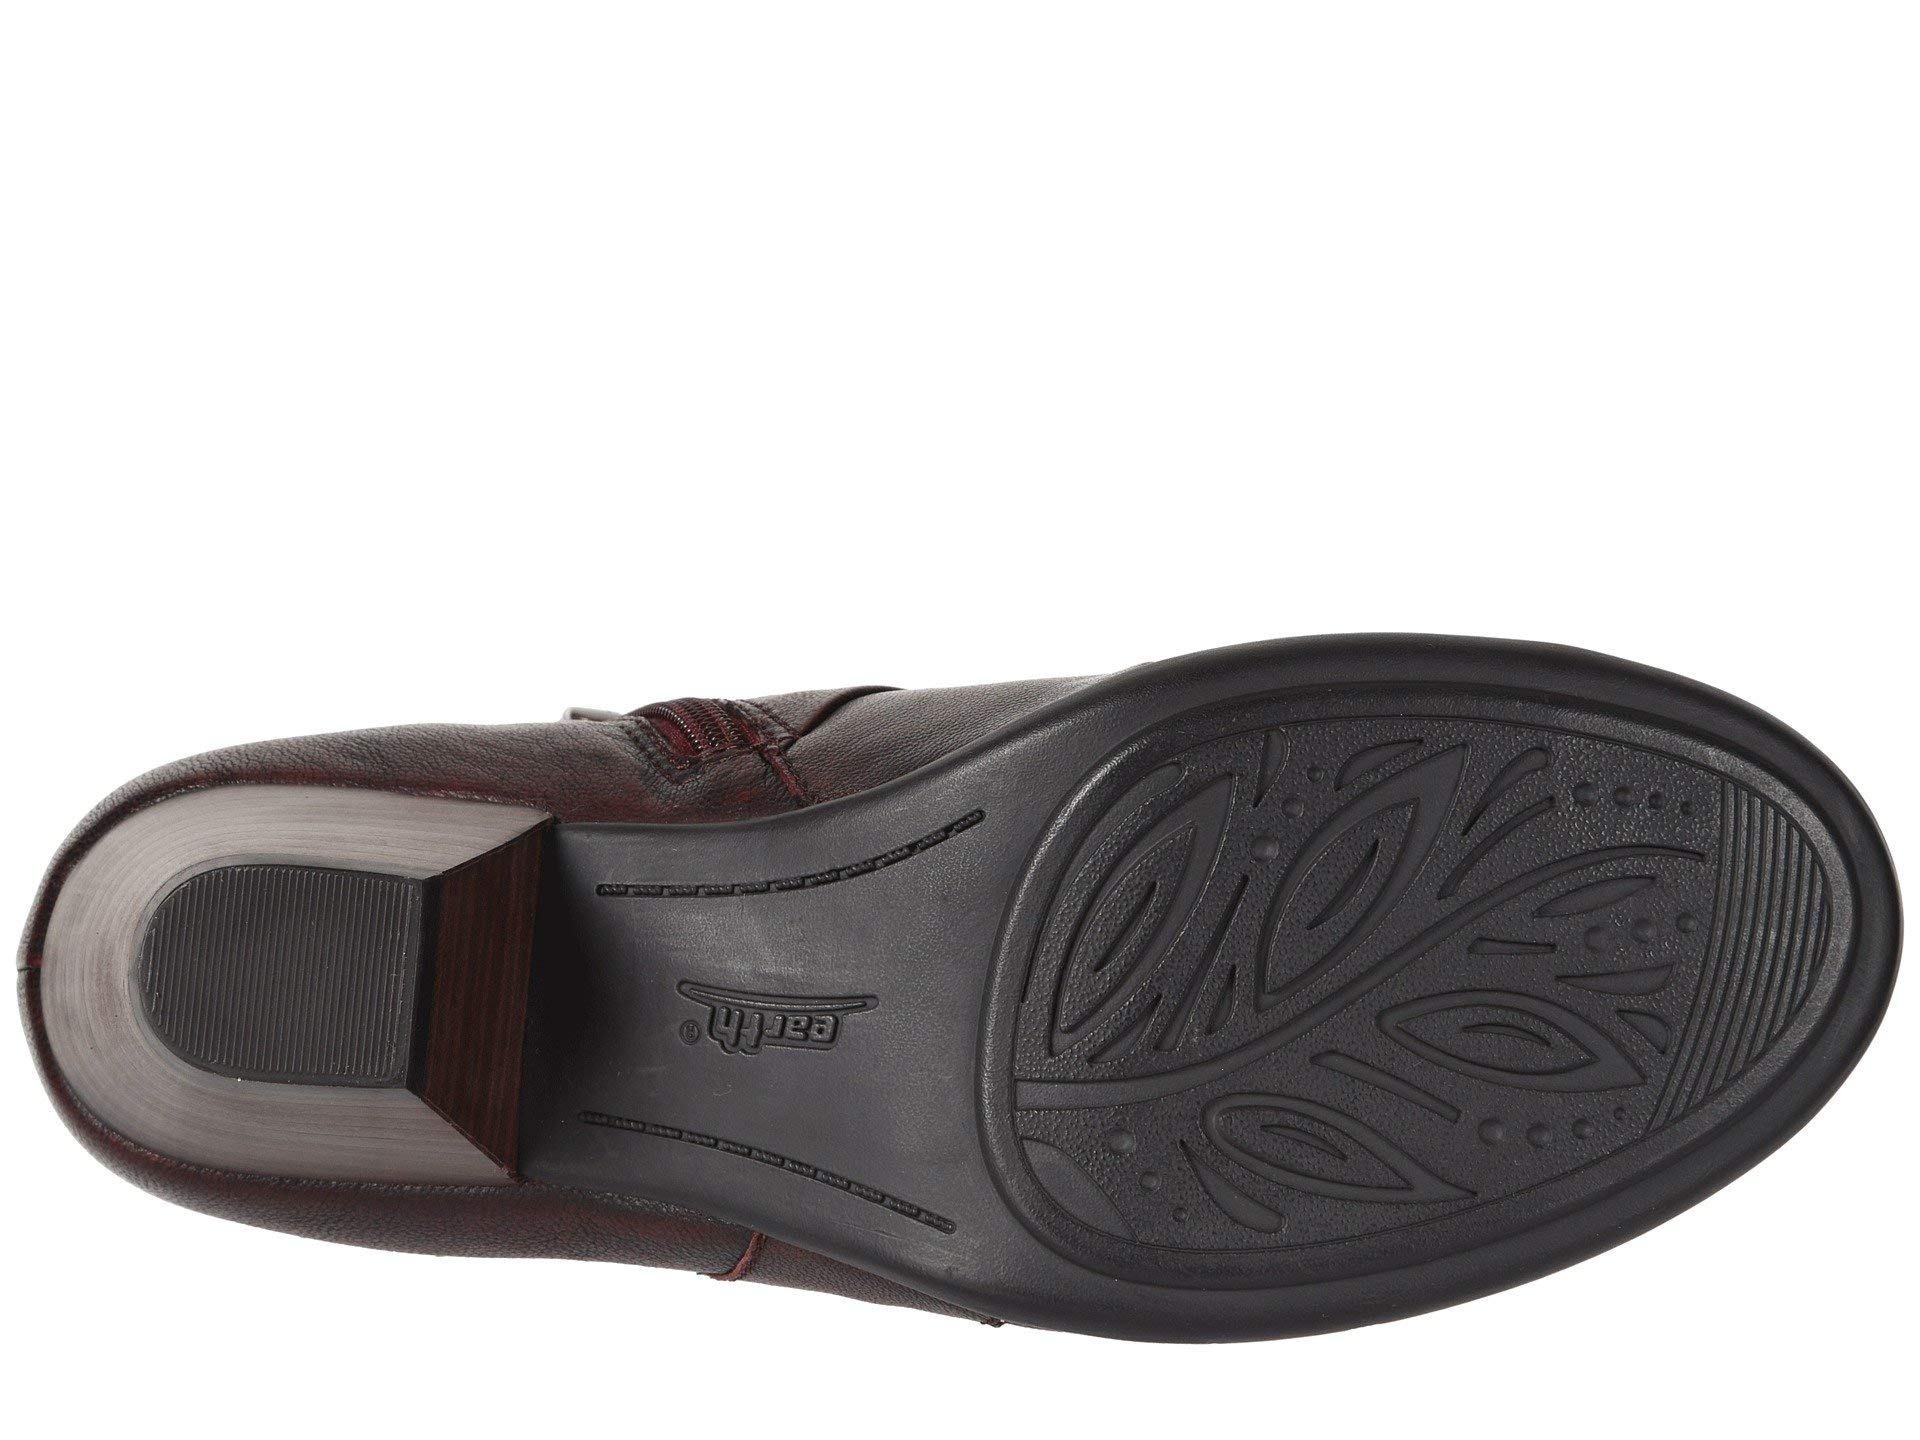circle: (1222, 784, 1581, 998), (641, 948, 912, 1080)
line: (1222, 784, 1581, 998), (641, 948, 912, 1080), (187, 889, 373, 1053), (1705, 788, 1808, 1050), (1445, 1100, 1649, 1162)
quad: (1222, 784, 1581, 998)
text: (641, 948, 912, 1080)
